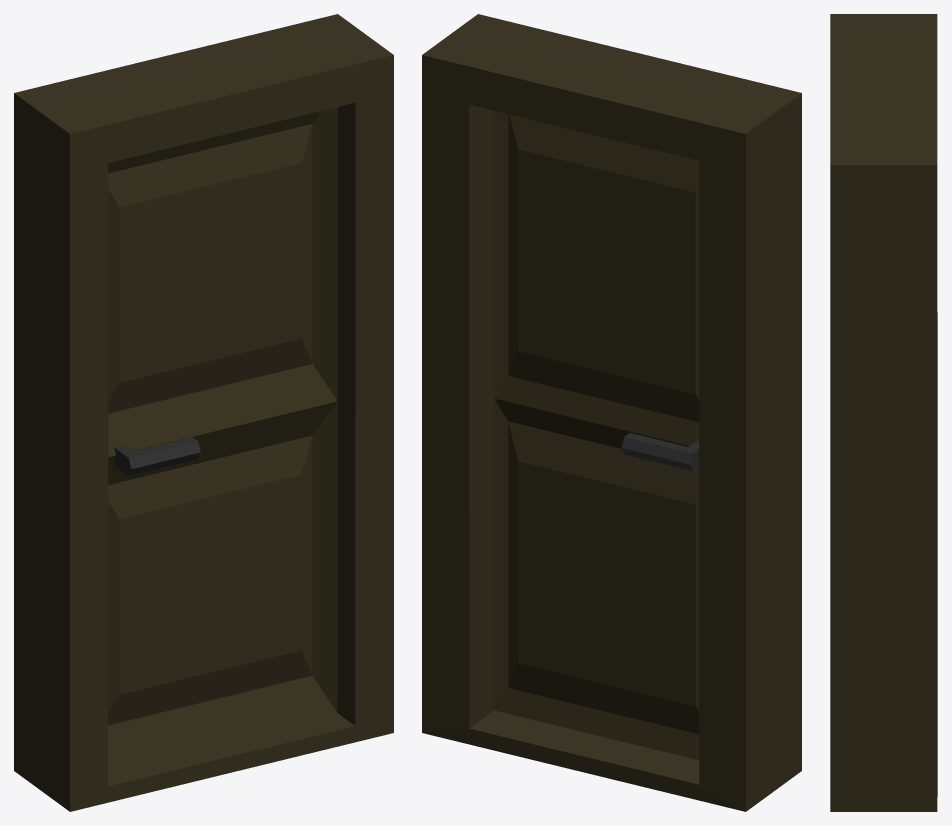
The model's file is Door.fbx.
3 renders of one model, left to right at view 1: azimuth 30°, elevation 25°; view 2: azimuth 150°, elevation 25°; view 3: azimuth 270°, elevation 25°, orthographic. The views are drawn at different scales.
Visible parts, largest first — view 1: Door, DHandle; view 2: Door, DHandle; view 3: Door.
Part boxes in pixels (left/top/right/bottom): Door: left=14, top=14, right=393, bottom=811; DHandle: left=113, top=437, right=200, bottom=475; Door: left=422, top=14, right=801, bottom=811; DHandle: left=621, top=433, right=699, bottom=471; Door: left=830, top=14, right=937, bottom=811.
Size of the model in its own units: 200 by 400 by 60.3.
